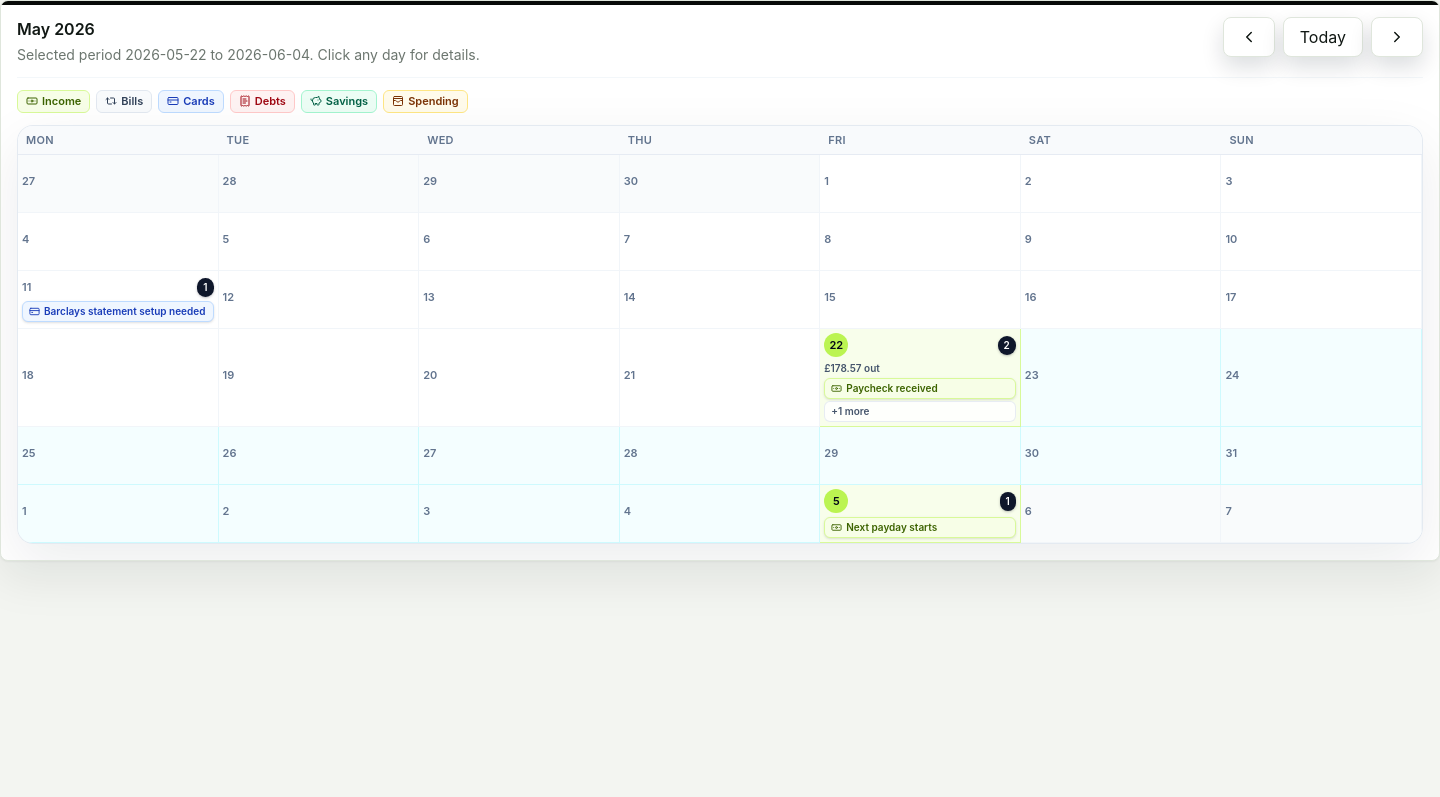
Test: calendar page › keeps calendar event breakdowns hidden until the row is expanded
Click the button with aria-label "Open 22 May 2026": point(921, 378) [820, 329, 1021, 427]
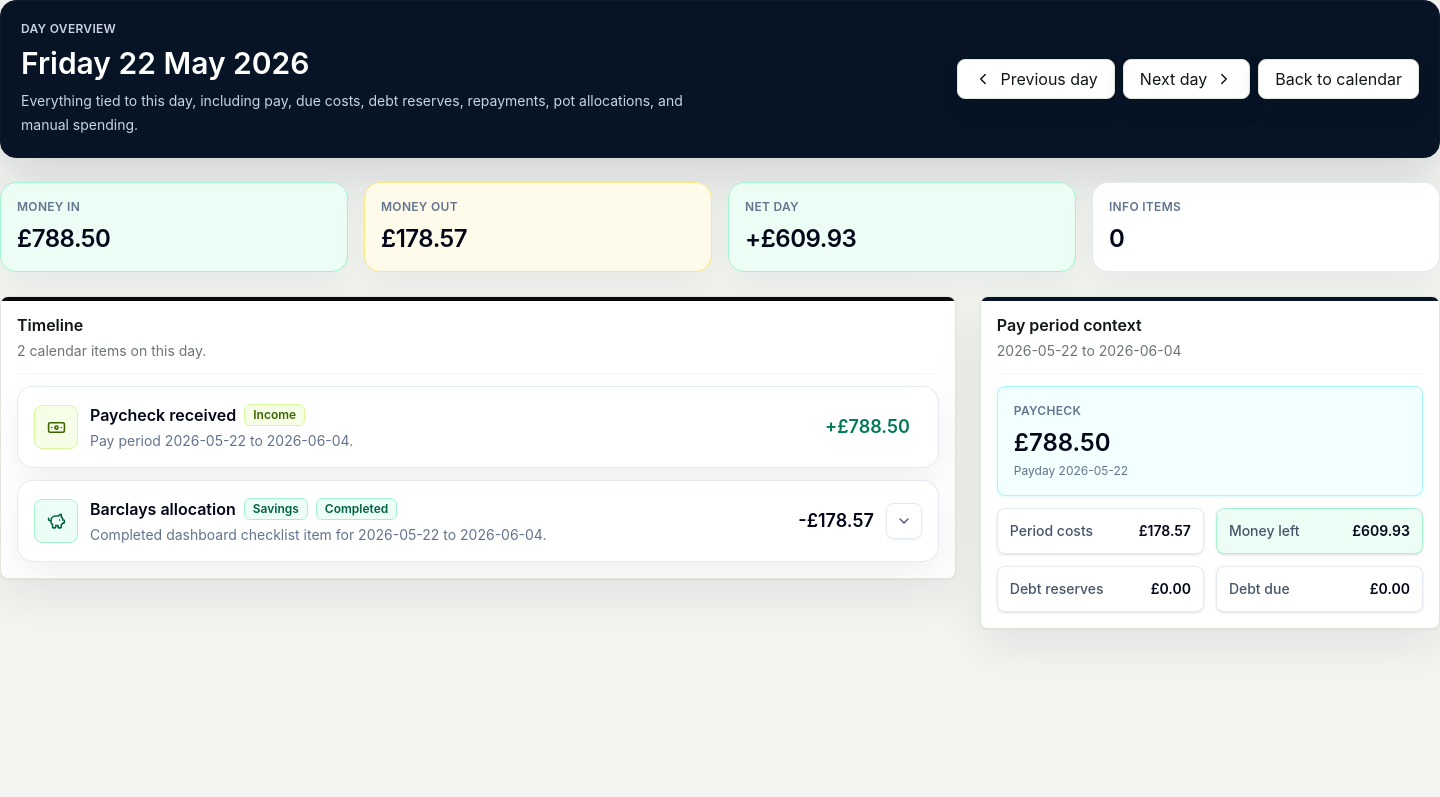
Expected: the text "Fuel" is not shown
Click the button named "Show breakdown for Barclays allocation -£178.57": point(904, 521) [886, 503, 922, 539]
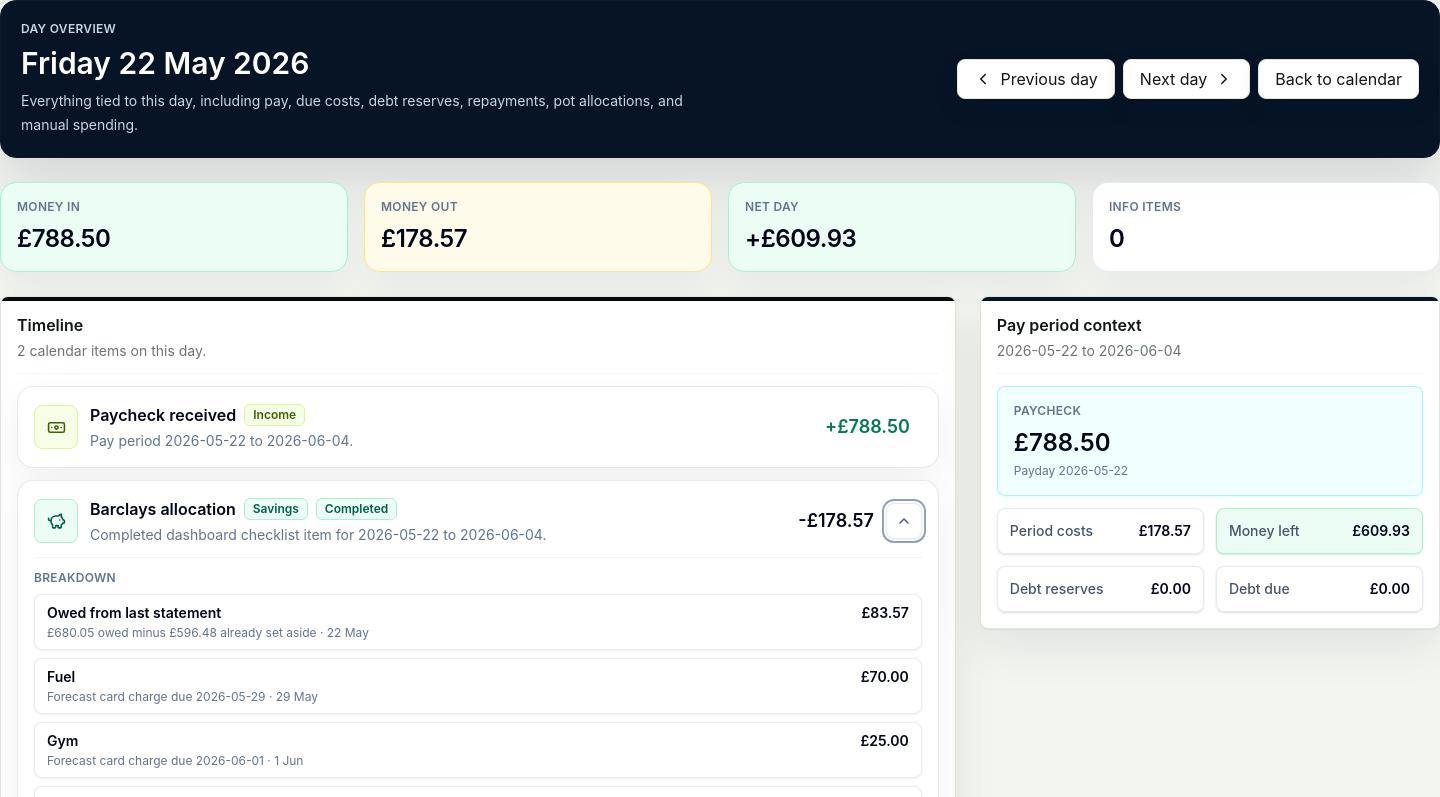
Result: the text "Fuel" is shown at [47, 668, 75, 685]
Result: the button named "Hide breakdown for Barclays allocation -£178.57" is expanded at [886, 503, 922, 539]
